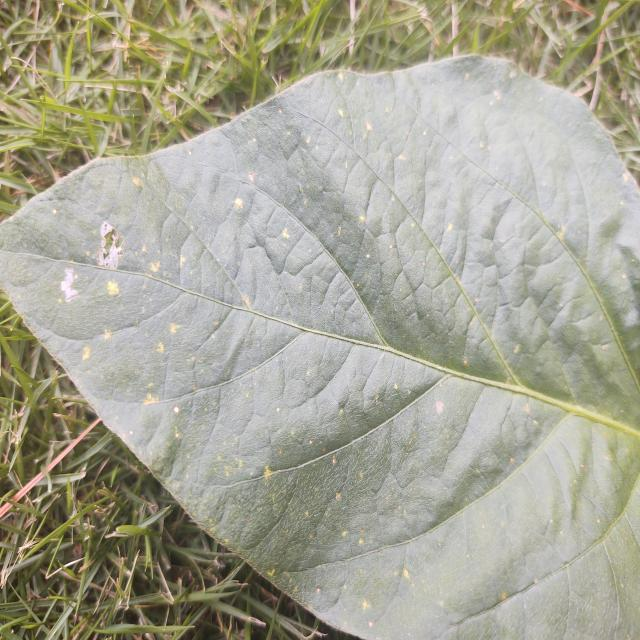Soybean: (0, 54, 640, 640)
downey_mildew: (370, 118, 509, 369), (527, 176, 636, 412), (423, 361, 640, 462), (112, 332, 324, 418), (6, 251, 242, 323), (329, 89, 430, 238), (446, 254, 543, 399), (455, 148, 569, 252), (254, 238, 314, 347), (204, 296, 326, 340), (194, 454, 314, 493), (215, 294, 274, 369), (284, 321, 392, 360), (600, 536, 622, 636)
